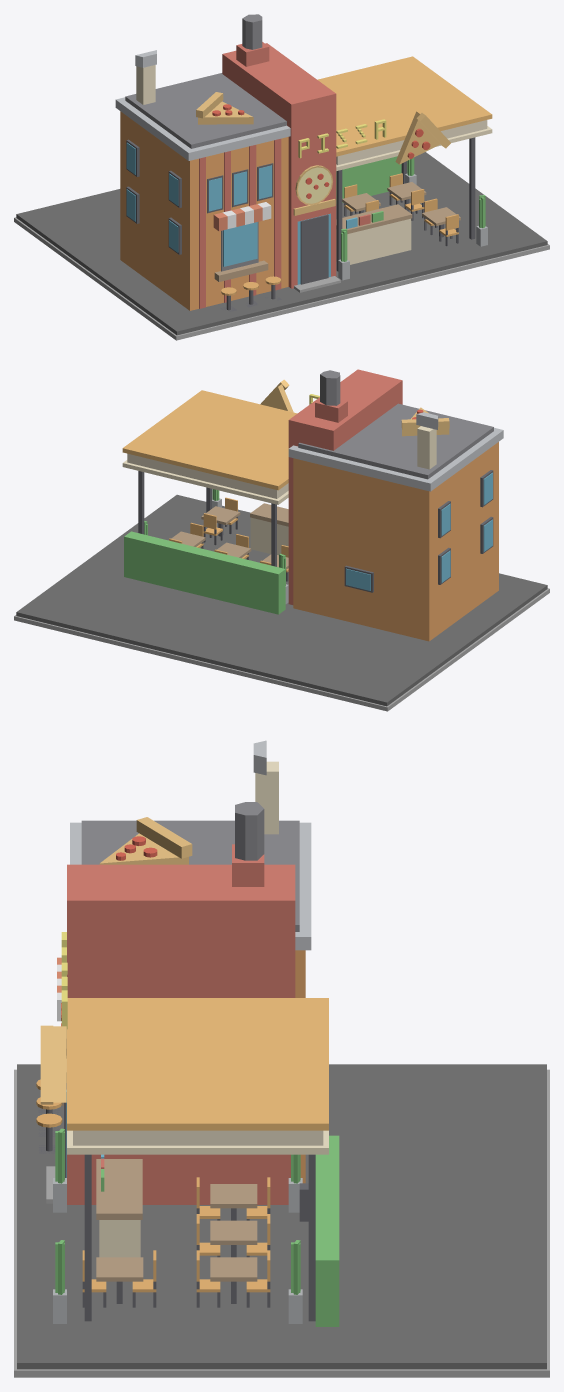
The model's file is Pizzeria01.fbx.
3 renders of one model, top to bottom at view 1: azimuth 30°, elevation 25°; view 2: azimuth 150°, elevation 25°; view 3: azimuth 270°, elevation 25°, orthographic. The views are drawn at different scales.
Parts seen in each view (by area): view 1: Pizzeria, Pizzeria.015, Pizzeria.001, Pizzeria.006, Pizzeria.007, Pizzeria.008, Pizzeria.013, Pizzeria.012; view 2: Pizzeria, Pizzeria.016, Pizzeria.001, Pizzeria.015, Pizzeria.013; view 3: Pizzeria, Pizzeria.001, Pizzeria.015, Pizzeria.013, Pizzeria.008, Pizzeria.014, Pizzeria.019, Pizzeria.005, Pizzeria.006, Pizzeria.007.
Part boxes in pixels (x1,y1,x2,y2): Pizzeria: (14,14,549,340); Pizzeria.015: (395,111,450,164); Pizzeria.001: (196,92,253,124); Pizzeria.006: (338,228,349,280); Pizzeria.007: (476,195,487,246); Pizzeria.008: (387,182,426,211); Pizzeria.013: (422,207,460,237); Pizzeria.012: (439,214,458,246); Pizzeria: (14,369,549,711); Pizzeria.016: (344,565,373,592); Pizzeria.001: (401,407,449,436); Pizzeria.015: (260,379,293,412); Pizzeria.013: (201,506,240,536); Pizzeria: (14,740,549,1377); Pizzeria.001: (99,817,192,864); Pizzeria.015: (40,1025,66,1104); Pizzeria.013: (96,1257,143,1303); Pizzeria.008: (210,1257,257,1303); Pizzeria.014: (210,1220,257,1257); Pizzeria.019: (210,1184,257,1220); Pizzeria.005: (288,1240,302,1323); Pizzeria.006: (53,1128,66,1212); Pizzeria.007: (53,1240,66,1323).
Size of the model in its own units: 1643 by 984 by 1236.
